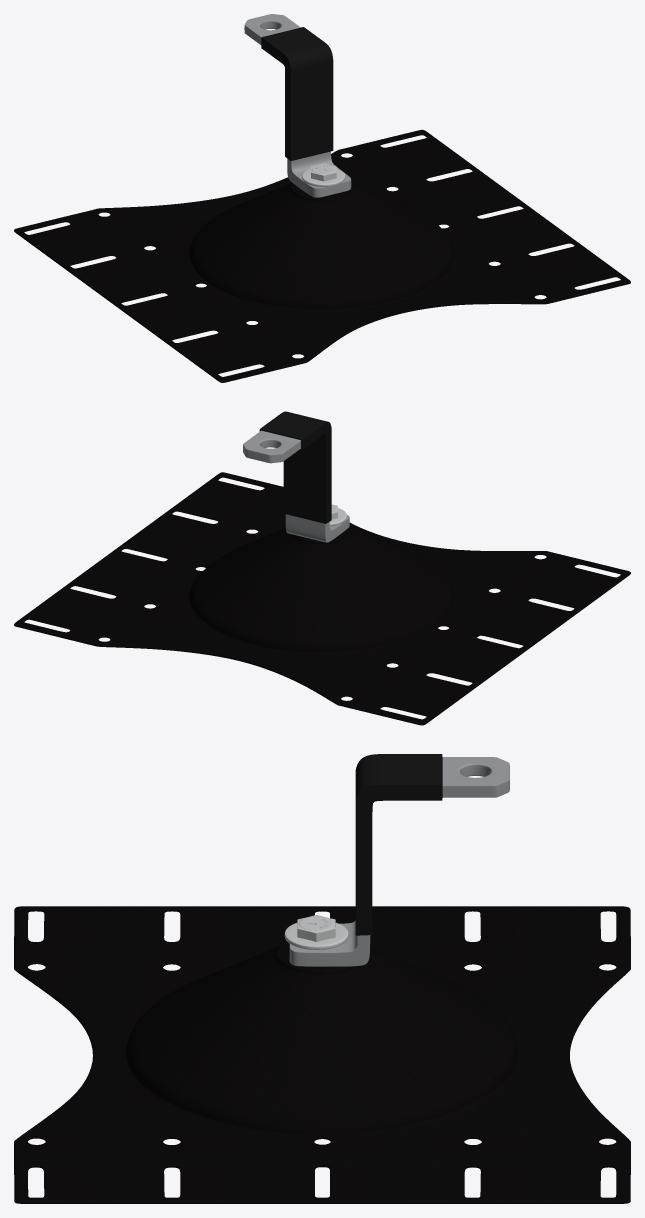
3 renders of one model, top to bottom at view 1: azimuth 30°, elevation 25°; view 2: azimuth 150°, elevation 25°; view 3: azimuth 270°, elevation 25°, orthographic. The views are drawn at different scales.
Visible parts, largest first — view 1: base_plate, top_angle; view 2: base_plate, top_angle; view 3: base_plate, top_angle, nut1, nut_supporter.
Part boxes in pixels (x1=…): base_plate: x1=14, y1=129, x2=630, y2=382; top_angle: x1=244, y1=14, x2=351, y2=197; base_plate: x1=14, y1=472, x2=630, y2=725; top_angle: x1=243, y1=411, x2=349, y2=542; base_plate: x1=14, y1=906, x2=630, y2=1203; top_angle: x1=289, y1=754, x2=509, y2=966; nut1: x1=297, y1=915, x2=335, y2=941; nut_supporter: x1=284, y1=922, x2=348, y2=949.
Bounding box in the file's own units: 9.25 × 4.19 × 8.15.
Materials: 1 (1 with a texture image).
